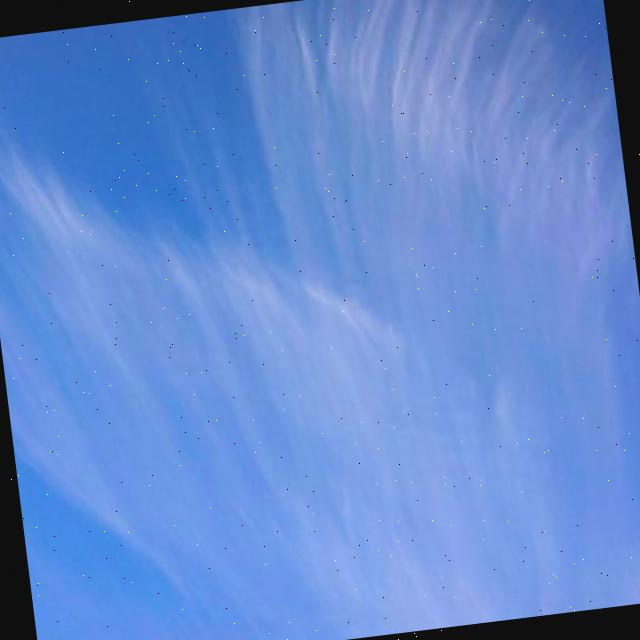Ci: (1, 1, 640, 605)
